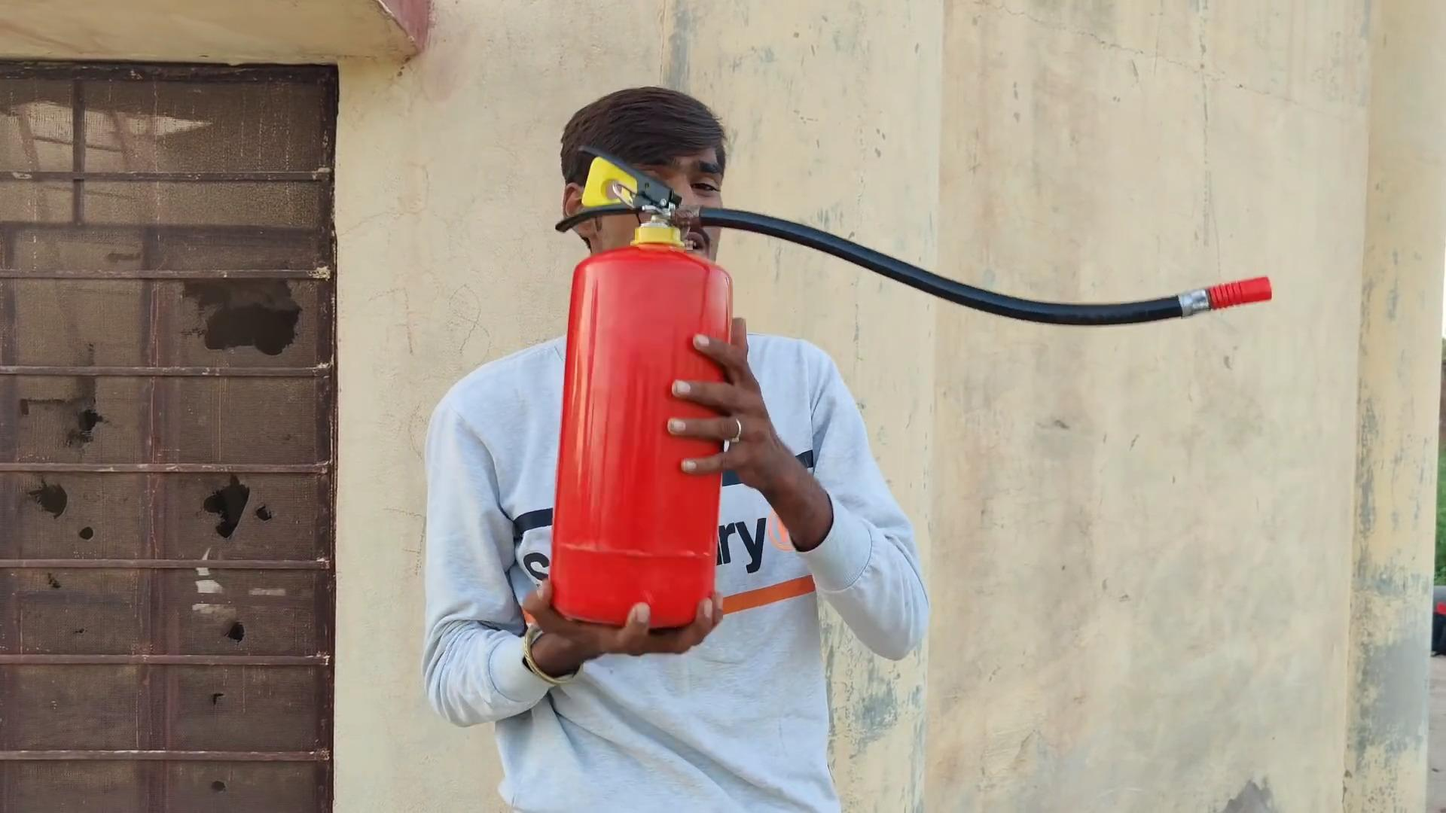FireExtinguisher: (524, 158, 790, 679)
